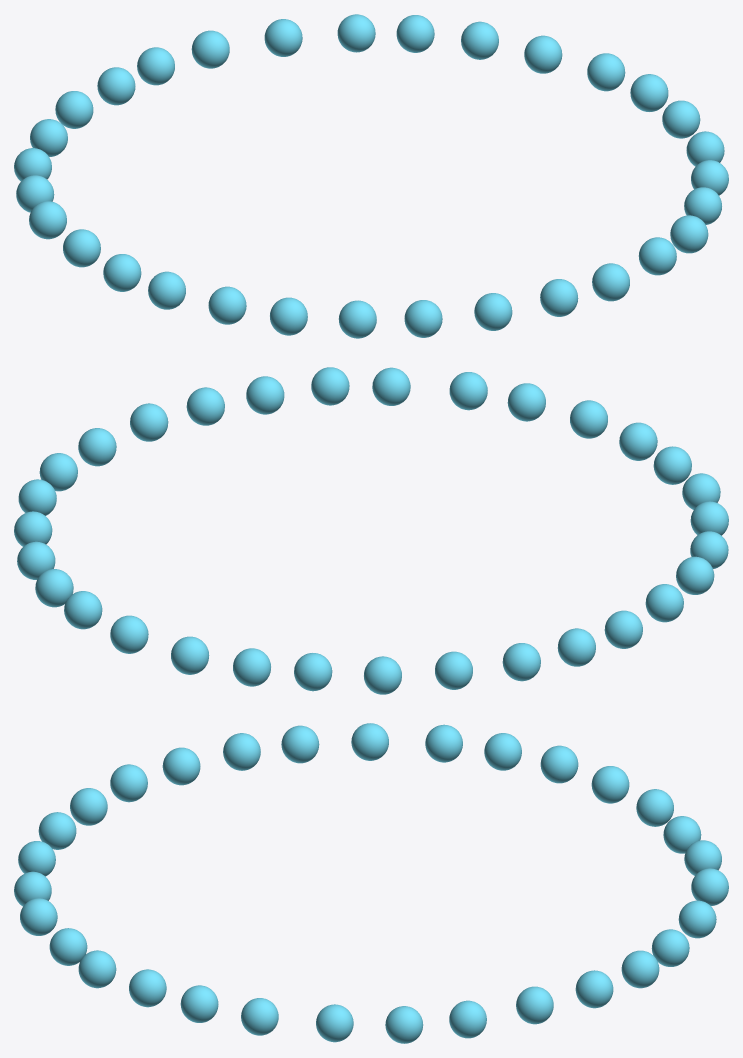
The picture shows the model from 3 angles, top to bottom: view 1: azimuth 30°, elevation 25°; view 2: azimuth 150°, elevation 25°; view 3: azimuth 270°, elevation 25°; orthographic projection.
Visible parts, largest first — view 1: Sphere049; view 2: Sphere049; view 3: Sphere049.
Part boxes in pixels (bbox=[...]): Sphere049: bbox=[14, 14, 728, 338]; Sphere049: bbox=[14, 367, 728, 694]; Sphere049: bbox=[14, 723, 728, 1043].
Bounding box in the file's own units: 154 × 8.22 × 155.
